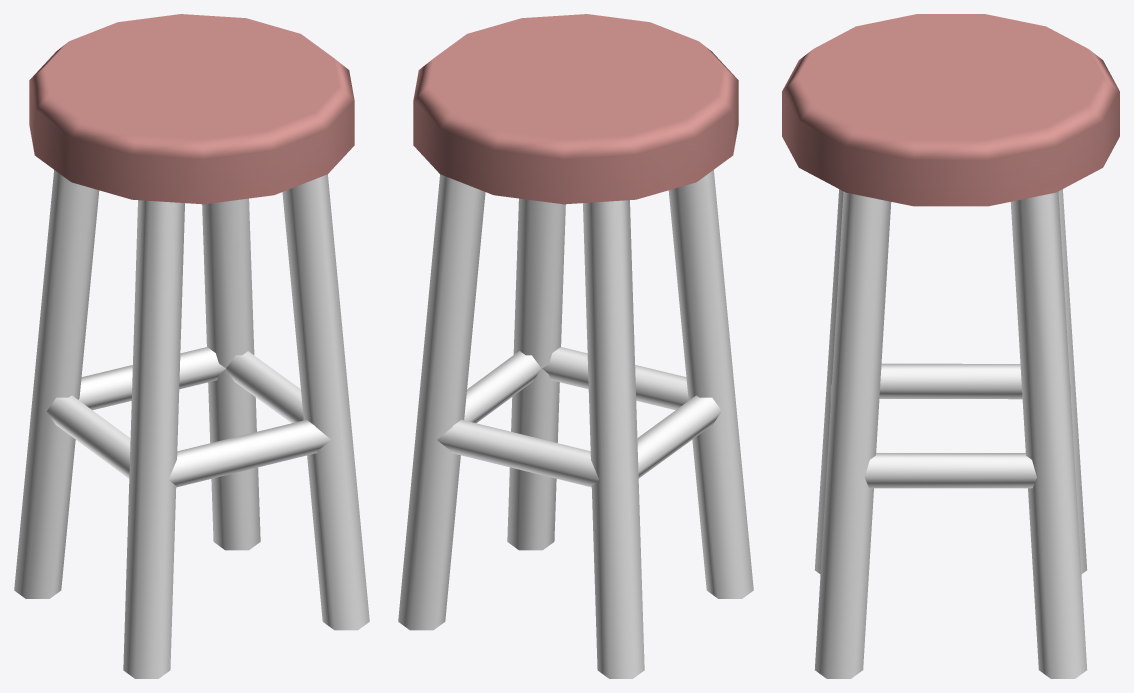
The model's file is Cafe_BarStool.fbx.
3 views of the same model, side by side, from view 1: azimuth 30°, elevation 25°; view 2: azimuth 150°, elevation 25°; view 3: azimuth 270°, elevation 25° (orthographic). The views are drawn at different scales.
Visible parts, largest first — view 1: Cafe_BarStool_Legs, Cafe_BarStool, Cafe_BarStool_Supports; view 2: Cafe_BarStool_Legs, Cafe_BarStool, Cafe_BarStool_Supports; view 3: Cafe_BarStool, Cafe_BarStool_Legs, Cafe_BarStool_Supports.
Boxes of the visible parts, x1,y1,x2,y2 form: Cafe_BarStool_Legs: [14, 170, 369, 678]; Cafe_BarStool: [29, 14, 354, 204]; Cafe_BarStool_Supports: [46, 347, 330, 487]; Cafe_BarStool_Legs: [398, 170, 753, 678]; Cafe_BarStool: [413, 14, 738, 204]; Cafe_BarStool_Supports: [437, 347, 721, 487]; Cafe_BarStool: [782, 14, 1119, 206]; Cafe_BarStool_Legs: [814, 189, 1087, 678]; Cafe_BarStool_Supports: [830, 363, 1070, 488].
Bounding box in the file's own units: 50.87 × 92.63 × 52.18.
